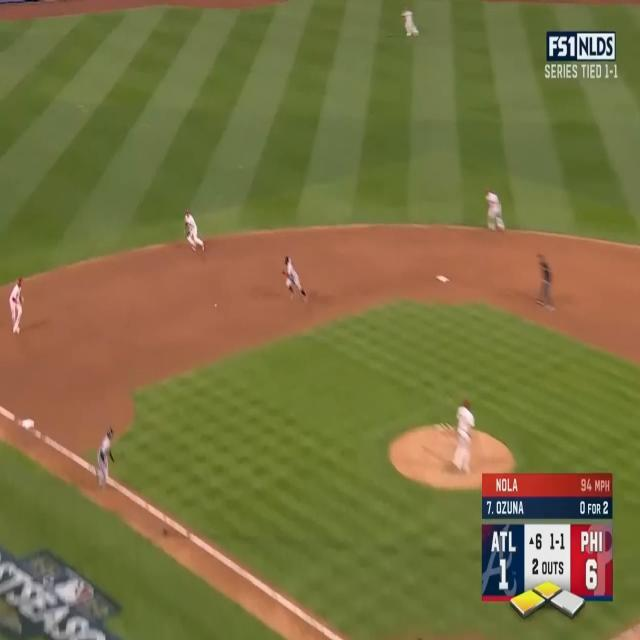baseball: (214, 303, 217, 307)
